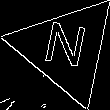N_S: (40, 20, 92, 77)
